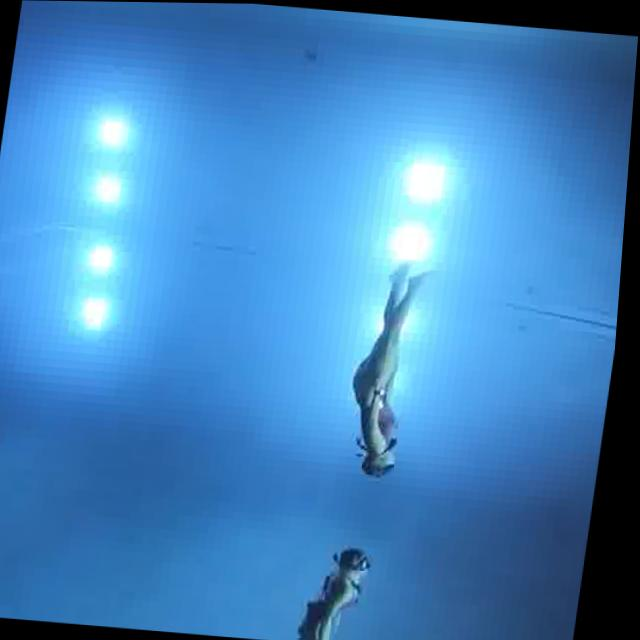human: (344, 261, 442, 492), (302, 527, 389, 640)
